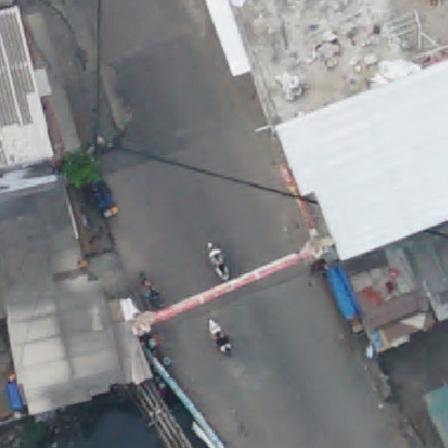Motorcycle: (202, 244, 235, 283), (205, 322, 240, 357), (132, 274, 166, 308)
